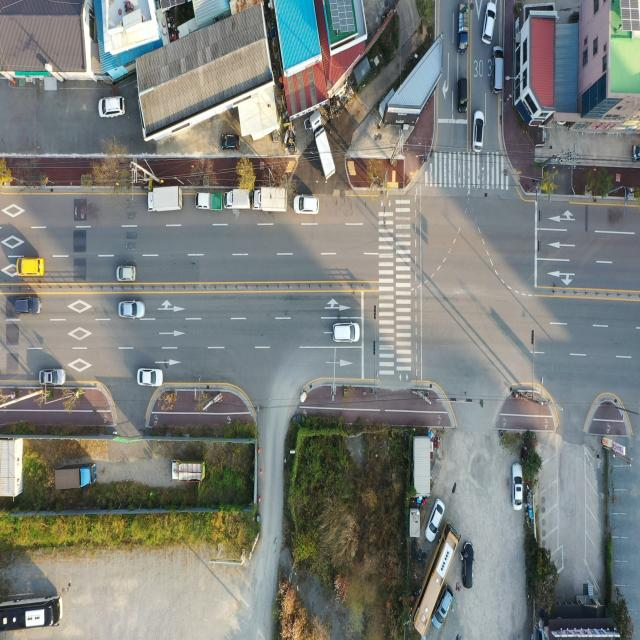car: (431, 582, 454, 627), (489, 39, 505, 98), (426, 502, 444, 544), (15, 257, 44, 280), (462, 541, 474, 593), (99, 96, 126, 119), (334, 322, 361, 342), (296, 195, 320, 215), (218, 132, 242, 152), (118, 302, 144, 320), (16, 298, 42, 316), (514, 465, 524, 511), (138, 368, 162, 387), (472, 110, 483, 150), (483, 5, 494, 44), (40, 368, 65, 385), (118, 266, 138, 282), (458, 77, 466, 110)
large_bus: (410, 522, 460, 637), (0, 598, 63, 631)
medium_truck: (309, 110, 338, 183), (54, 467, 99, 497), (148, 184, 185, 212), (252, 183, 287, 210)
small_truck: (170, 460, 205, 481), (196, 191, 223, 212), (223, 189, 250, 210), (458, 3, 469, 52)
